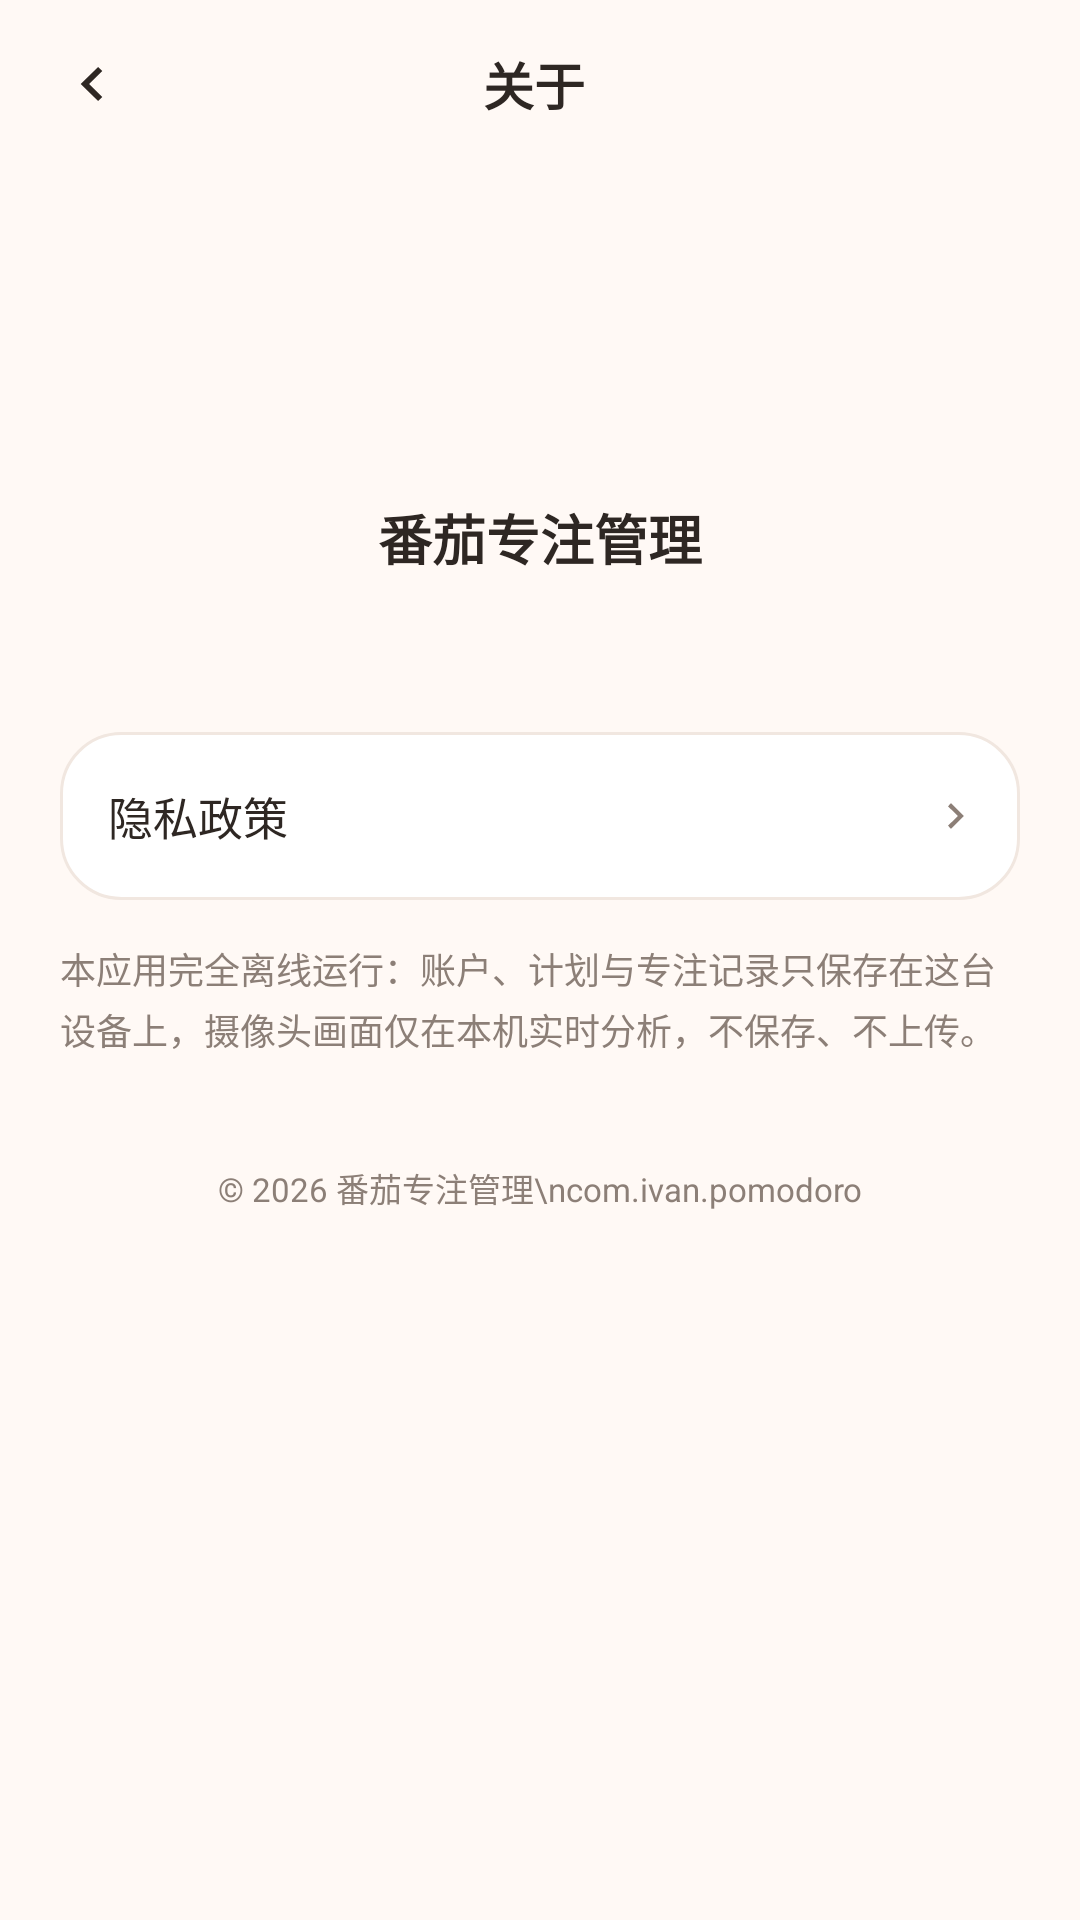

Screen size 1080×1920. Icon name, then its center in pixels as [x,y]:
查看: [956,816]
返回: [91,84]
